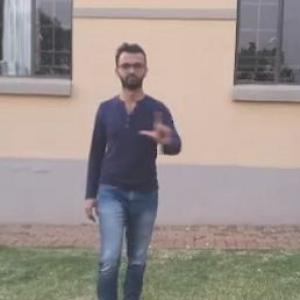land_hand: (136, 105, 177, 145)
